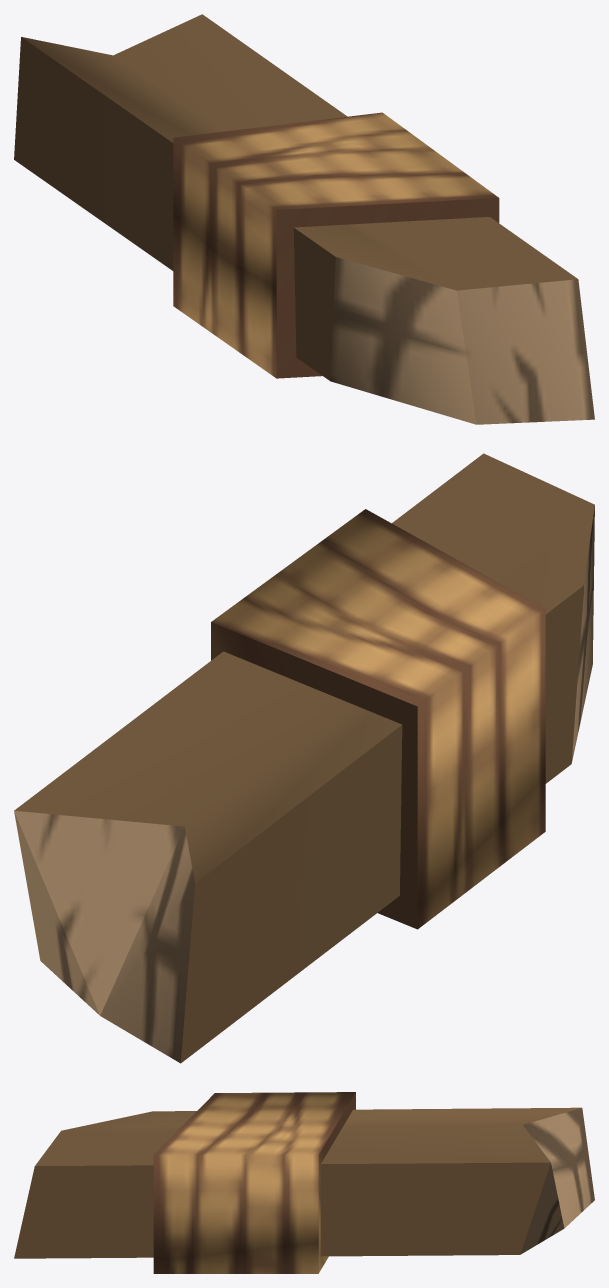
The model's file is FX_wreck_A.FBX.
3 renders of one model, top to bottom at view 1: azimuth 30°, elevation 25°; view 2: azimuth 150°, elevation 25°; view 3: azimuth 270°, elevation 25°, orthographic. The views are drawn at different scales.
Visible parts, largest first — view 1: FX_wreck_A; view 2: FX_wreck_A; view 3: FX_wreck_A.
Boxes of the visible parts, <box> form: FX_wreck_A: <box>14,14,594,424</box>; FX_wreck_A: <box>14,453,594,1063</box>; FX_wreck_A: <box>14,1092,594,1273</box>.
Size of the model in its own units: 16.22 by 14.31 by 63.29.
1 material, 1 textured.
